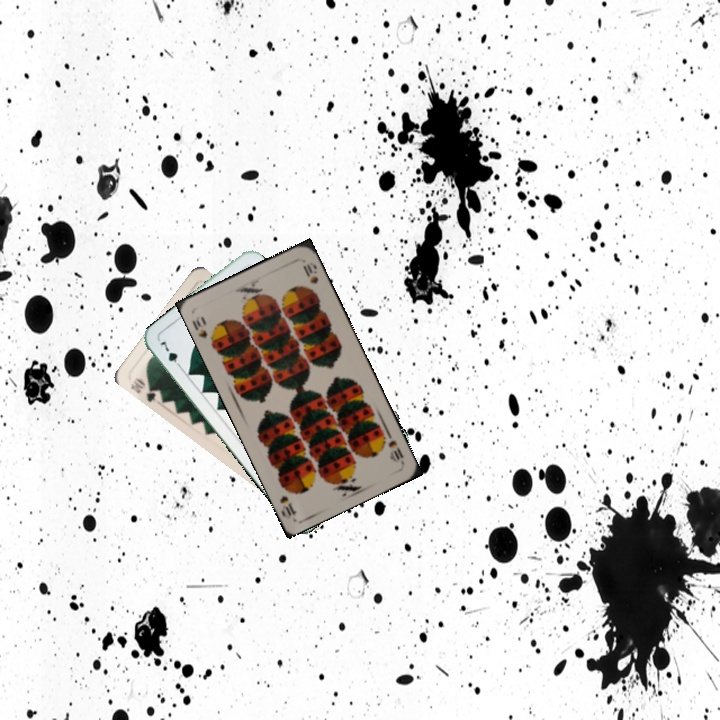G10: (126, 374, 161, 404)
G7: (156, 337, 185, 372)
S10: (188, 312, 218, 347), (384, 436, 406, 466)
